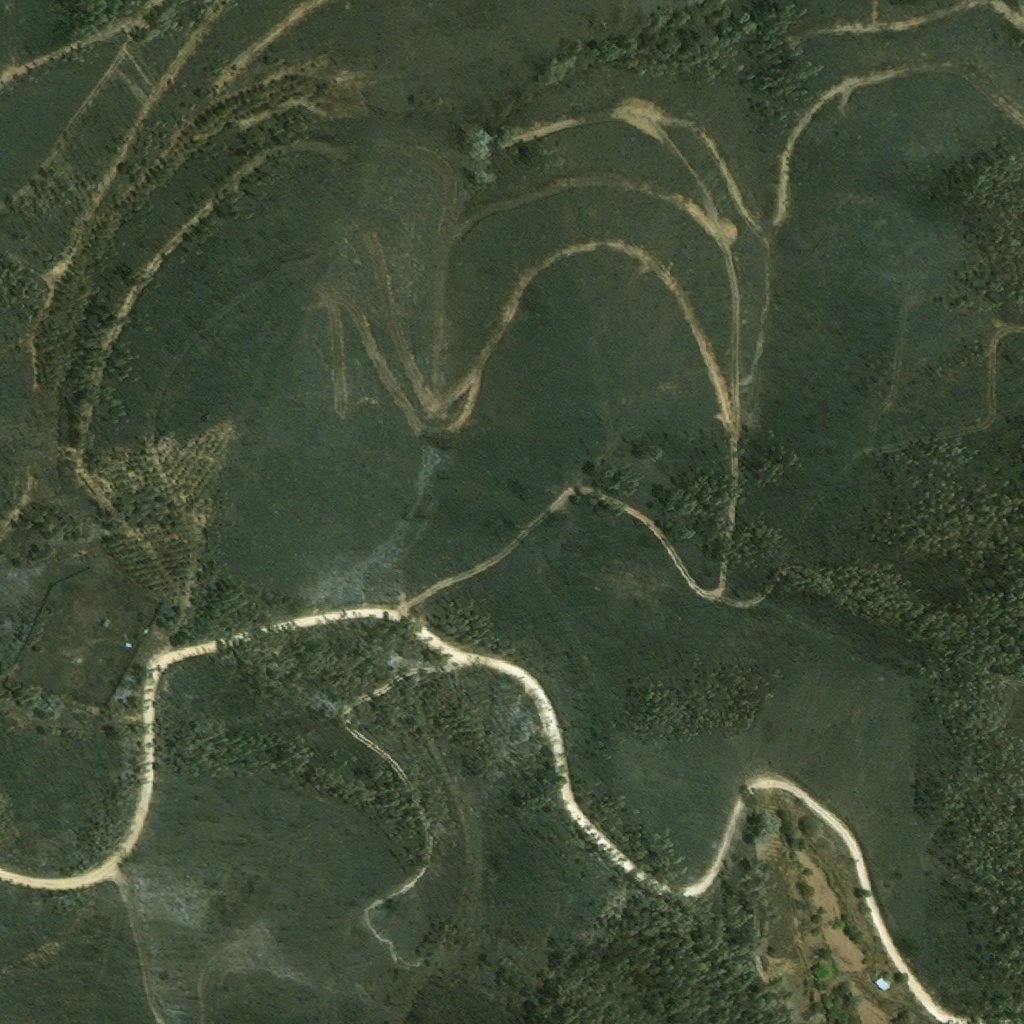0 no-damage: (872, 974, 893, 994), (811, 992, 818, 1001)
